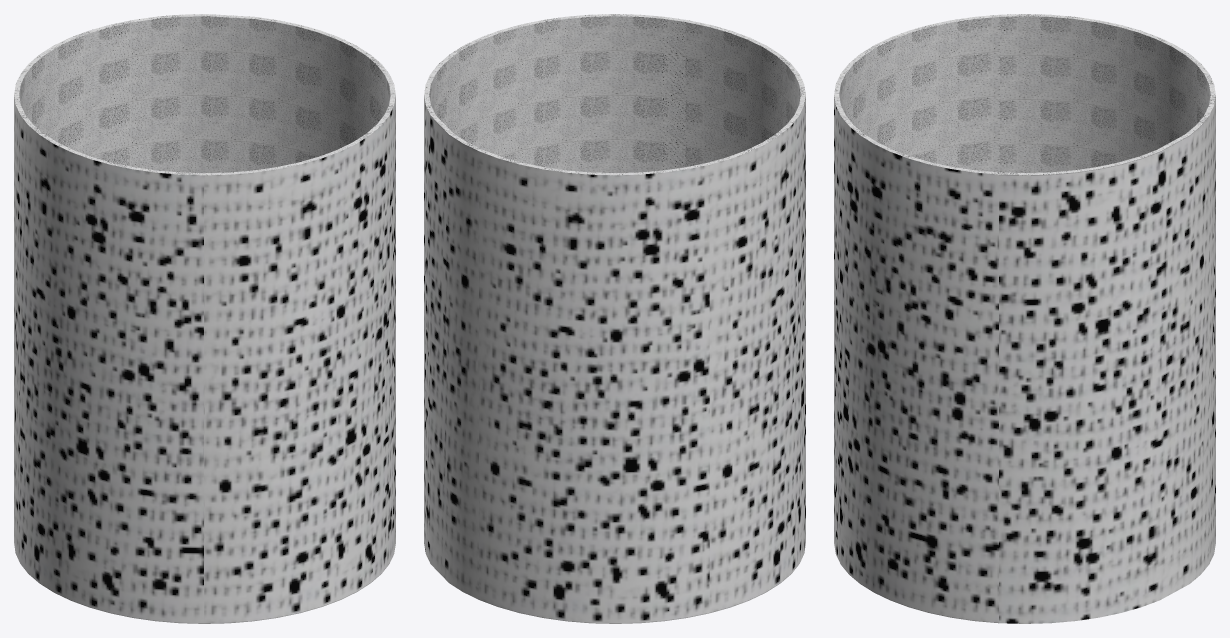
The model's file is carbonCheeseCloth.glb.
3 renders of one model, left to right at view 1: azimuth 30°, elevation 25°; view 2: azimuth 150°, elevation 25°; view 3: azimuth 270°, elevation 25°, orthographic.
Parts seen in each view (by area): view 1: Spiral.005; view 2: Spiral.005; view 3: Spiral.005.
Boxes of the visible parts, x1=… form: Spiral.005: x1=14, y1=14, x2=395, y2=623; Spiral.005: x1=424, y1=14, x2=805, y2=623; Spiral.005: x1=834, y1=14, x2=1215, y2=623.
Size of the model in its own units: 1.01 by 1.31 by 1.01.
Materials: 1 (1 with a texture image).
